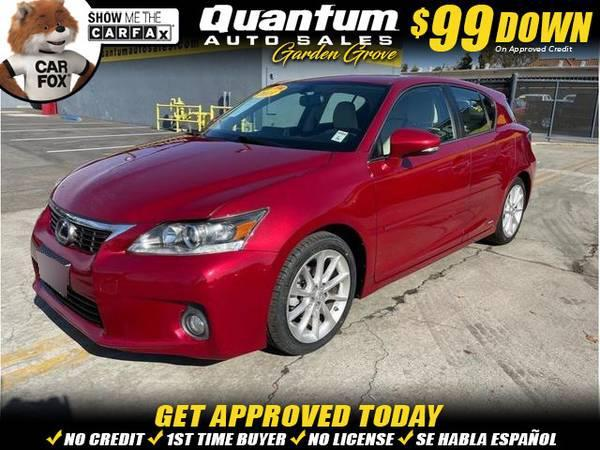Front_Bumper: (29, 219, 285, 360)
Front_Fender: (208, 151, 377, 294)
Front_Left_Door: (373, 136, 470, 288)
Front_Left_Window: (367, 83, 460, 162)
Front_Windshield: (194, 77, 389, 151)
Grille: (38, 199, 135, 257)
Hood: (51, 137, 331, 222)
Left_Headlight: (123, 206, 267, 261)
Rear_Fender: (510, 122, 534, 190)
Rear_Left_Door: (464, 126, 514, 249)
Rear_Left_Window: (445, 84, 496, 139)
Roof: (288, 69, 515, 156)
Wheel: (271, 231, 361, 354), (500, 182, 527, 241)
